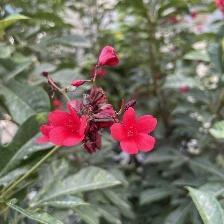jatropha: (112, 108, 161, 160), (38, 104, 90, 152)
